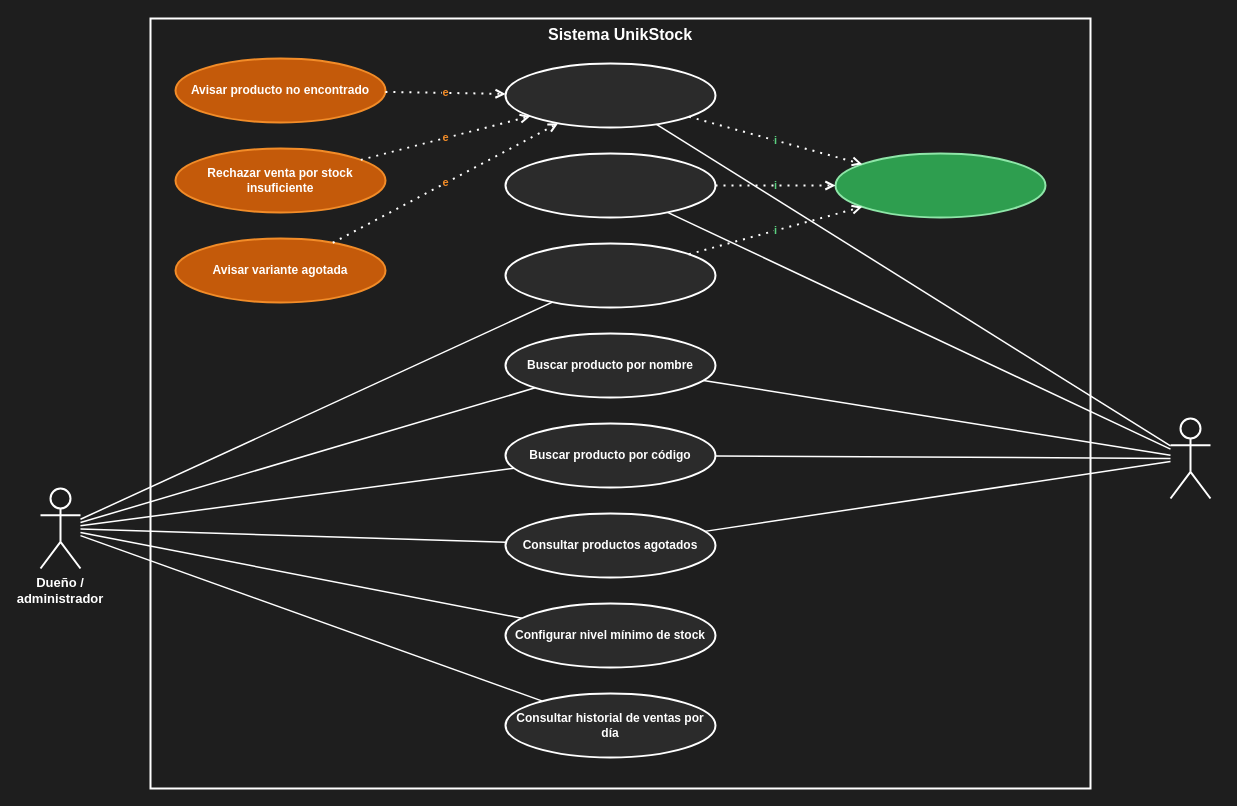
Image size: 1237x806. Some labels were removed from this diagram. Here are the shapes that lost their labels. From the top down, the box of each, then its label:
(504, 62, 716, 128): Registrar venta
(504, 152, 716, 218): Registrar devolución
(834, 152, 1046, 218): Actualizar stock de variante
(504, 242, 716, 308): Registrar entrada de mercancía
(1169, 417, 1211, 499): Vendedor
